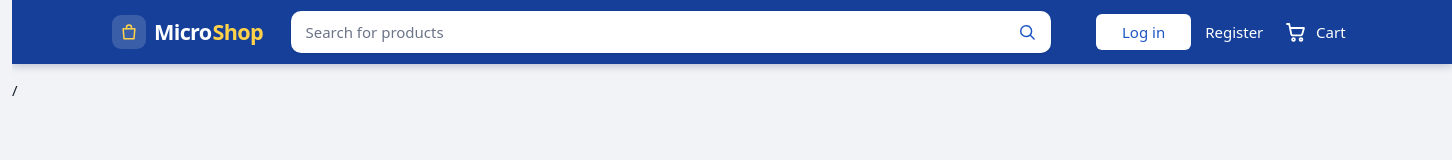
Test case: the search box in the header › goes to the results page with the search text when Enter is pressed
Type "red shoes" into the dropdown named "Search products" at (647, 32), box [291,11,1003,53]
Then press Enter
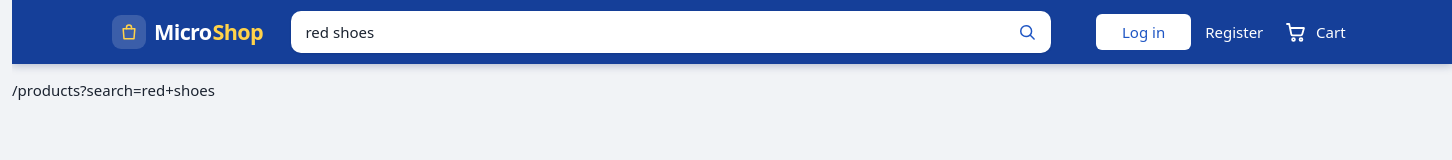
Result: the text with test id "where" reads "/products?search=red+shoes" at [12,80,215,100]
